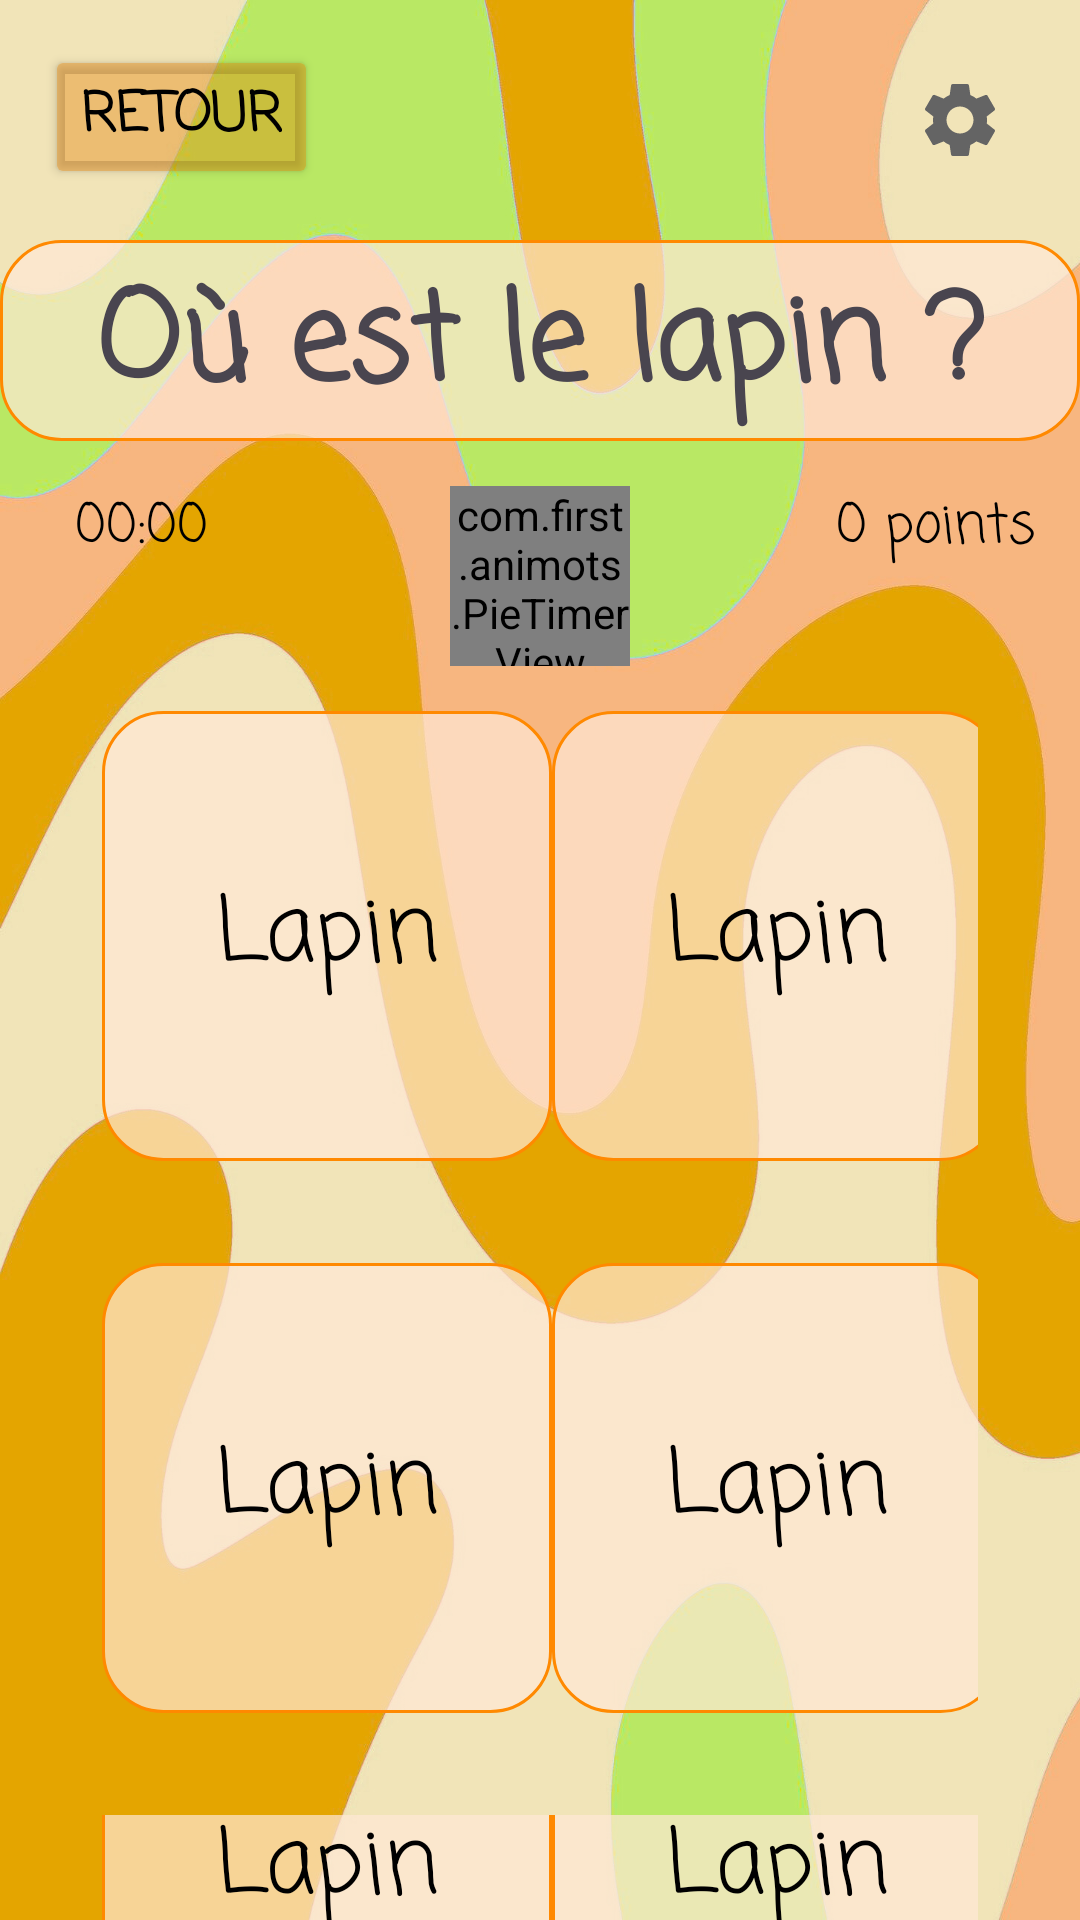

Icon bounding boxes for this 1080w x 1920h phone screenshot, format (x1, y1, x2, y2):
settings: (925, 84, 995, 156)
